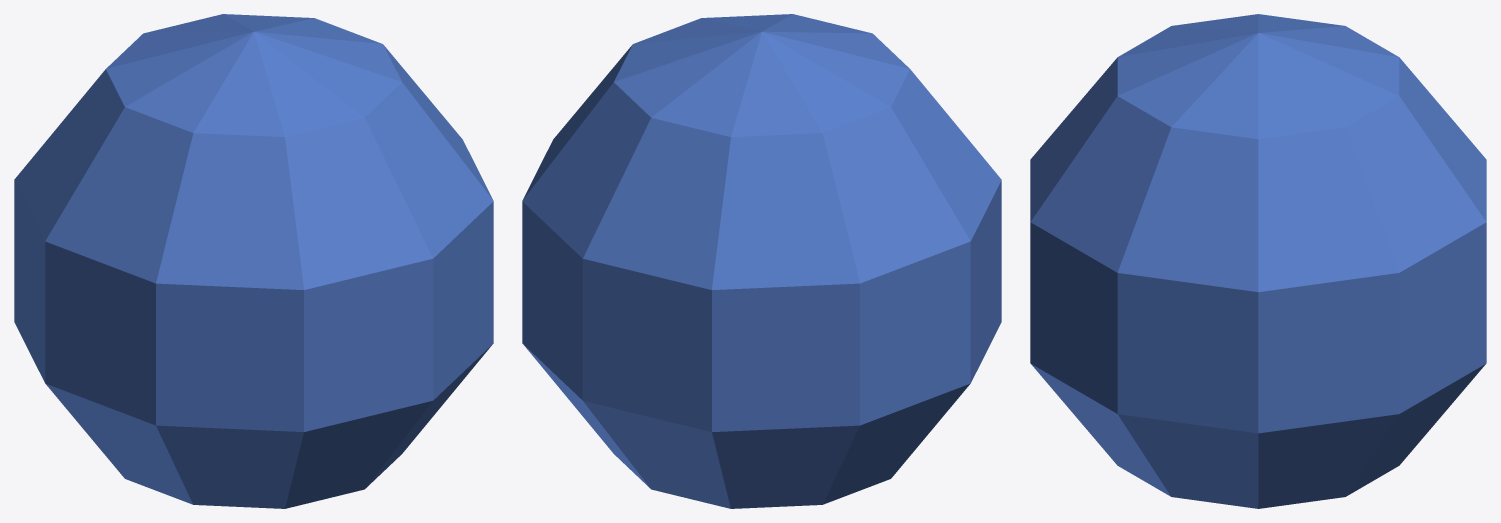
Rendered from ball.fbx.
3 views of the same model, side by side, from view 1: azimuth 30°, elevation 25°; view 2: azimuth 150°, elevation 25°; view 3: azimuth 270°, elevation 25° (orthographic).
Parts seen in each view (by area): view 1: ball; view 2: ball; view 3: ball.
Boxes of the visible parts, bbox=[...] form: ball: bbox=[14, 14, 493, 508]; ball: bbox=[522, 14, 1001, 508]; ball: bbox=[1030, 14, 1486, 508].
Size of the model in its own units: 190 by 200 by 181.
